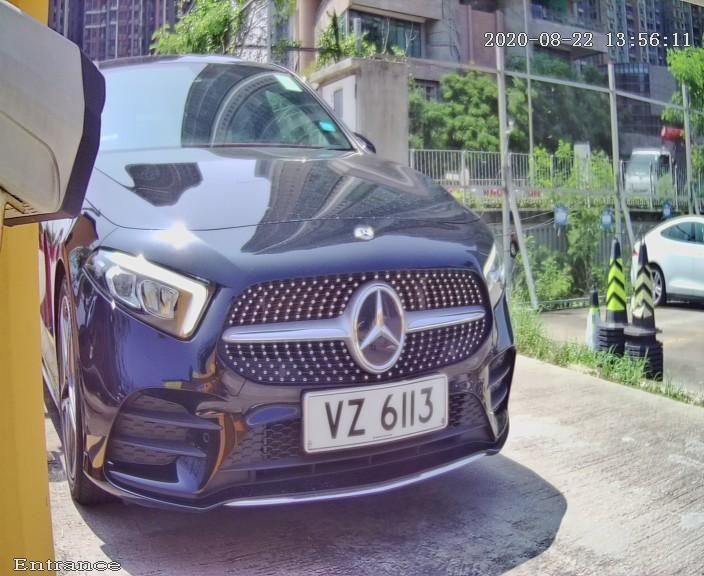Car: (54, 6, 560, 564)
License Plate: (278, 349, 472, 476)
